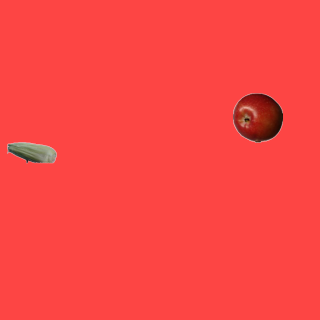Apple Braeburn: (232, 92, 282, 142)
Corn Husk: (6, 127, 56, 177)
